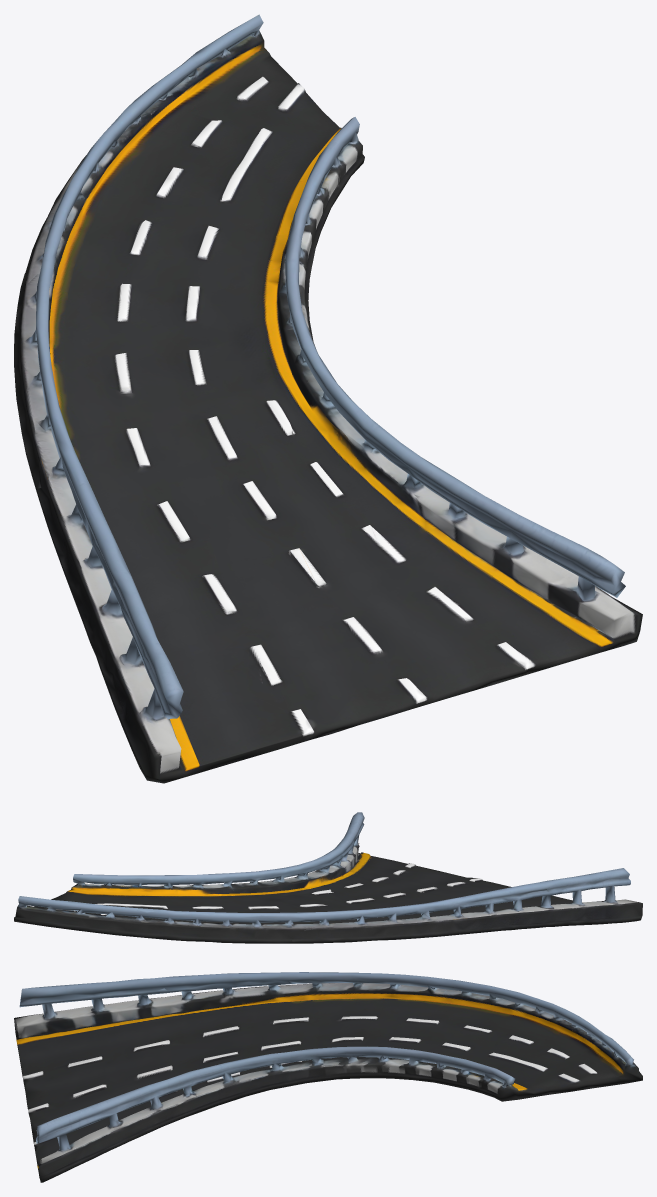
The model's file is 3lanerampright.glb.
The picture shows the model from 3 angles, top to bottom: view 1: azimuth 30°, elevation 25°; view 2: azimuth 150°, elevation 25°; view 3: azimuth 270°, elevation 25°; orthographic projection. The views are drawn at different scales.
Parts seen in each view (by area): view 1: tripo_node_099ed2a7-a64a-4ba8-818f-974185be15f1; view 2: tripo_node_099ed2a7-a64a-4ba8-818f-974185be15f1; view 3: tripo_node_099ed2a7-a64a-4ba8-818f-974185be15f1.
Part boxes in pixels (x1=…): tripo_node_099ed2a7-a64a-4ba8-818f-974185be15f1: x1=14, y1=14, x2=642, y2=783; tripo_node_099ed2a7-a64a-4ba8-818f-974185be15f1: x1=14, y1=812, x2=642, y2=943; tripo_node_099ed2a7-a64a-4ba8-818f-974185be15f1: x1=14, y1=972, x2=642, y2=1182.
Size of the model in its own units: 0.6885 by 0.282 by 1.
Materials: 1 (1 with a texture image).
